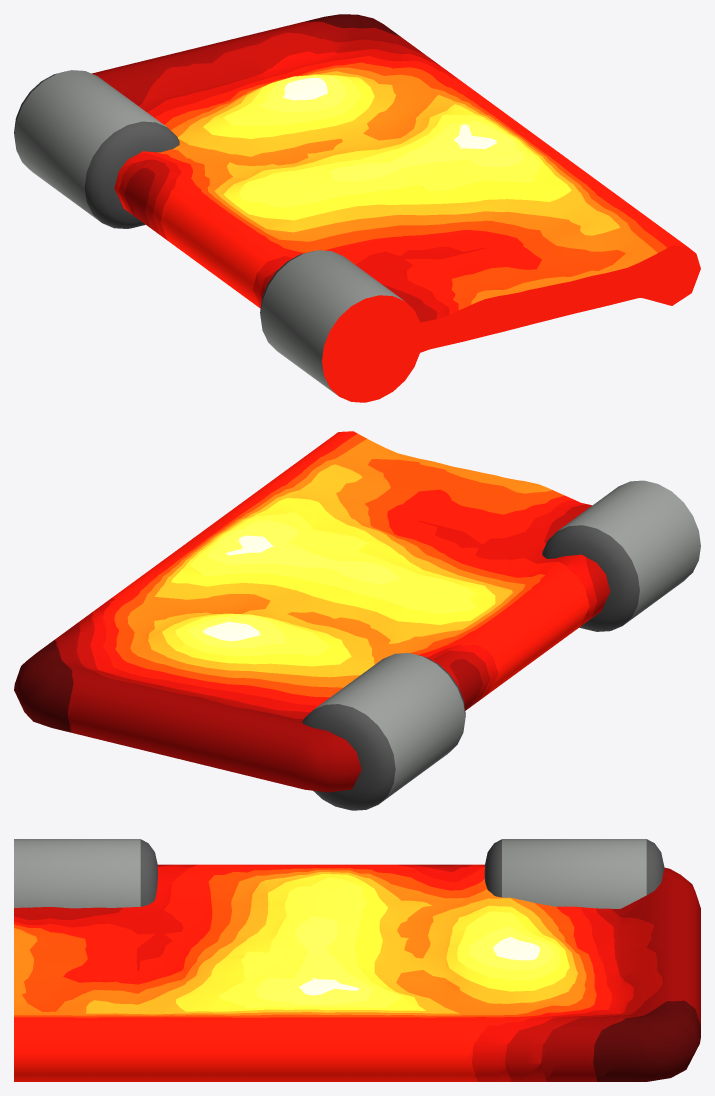
The model's file is fire_flap_231.glb.
The picture shows the model from 3 angles, top to bottom: view 1: azimuth 30°, elevation 25°; view 2: azimuth 150°, elevation 25°; view 3: azimuth 270°, elevation 25°; orthographic projection. The views are drawn at different scales.
Parts seen in each view (by area): view 1: flap.001, knuckle1.001, knuckle0.001; view 2: flap.001, knuckle0.001, knuckle1.001; view 3: flap.001, knuckle0.001, knuckle1.001.
Part boxes in pixels (<box>): flap.001: <box>92,14,700,378</box>; knuckle1.001: <box>260,250,422,402</box>; knuckle0.001: <box>14,70,179,228</box>; flap.001: <box>14,431,610,792</box>; knuckle0.001: <box>302,653,465,810</box>; knuckle1.001: <box>542,480,700,631</box>; flap.001: <box>14,864,700,1081</box>; knuckle0.001: <box>484,839,664,908</box>; knuckle1.001: <box>14,839,157,908</box>.
Size of the model in its own units: 12.45 by 3.27 by 19.
